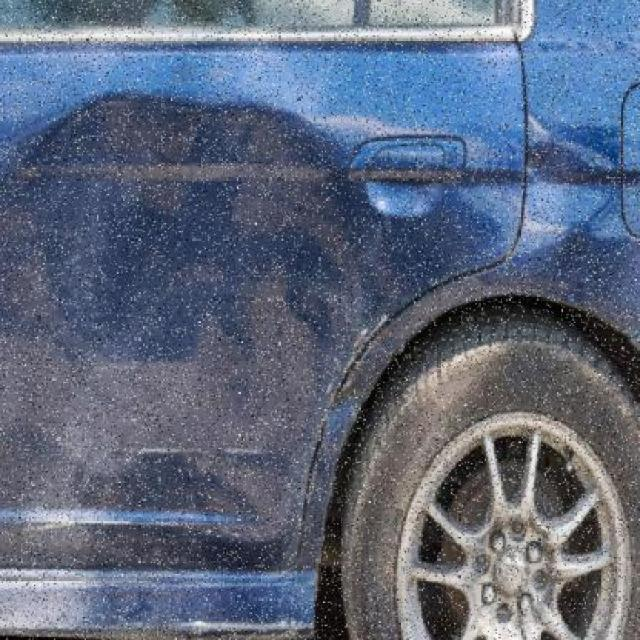RunningBoard-Dent: (0, 579, 351, 640)
doorouter-dent: (0, 37, 511, 574)
quaterpanel-dent: (509, 20, 640, 441)
